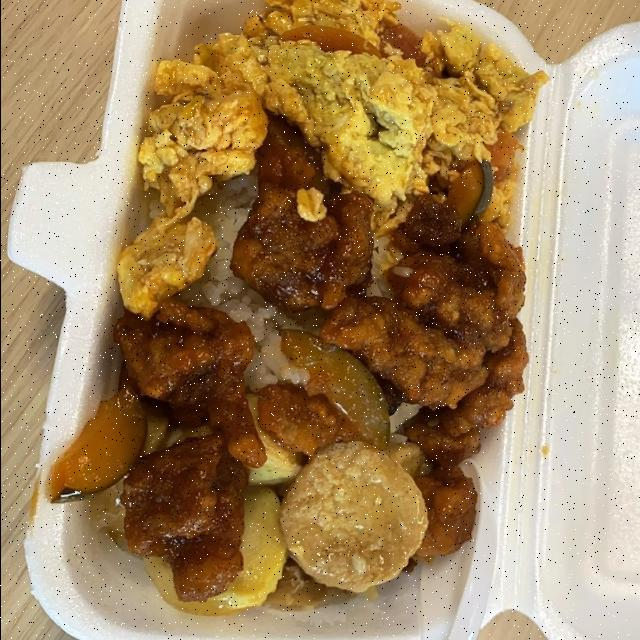Egg: (119, 0, 541, 311)
Pork: (230, 119, 527, 557), (114, 301, 266, 600), (256, 371, 387, 459)
Rice: (180, 173, 322, 390), (367, 236, 400, 297), (389, 403, 419, 432)
Tofu: (144, 396, 427, 614)
